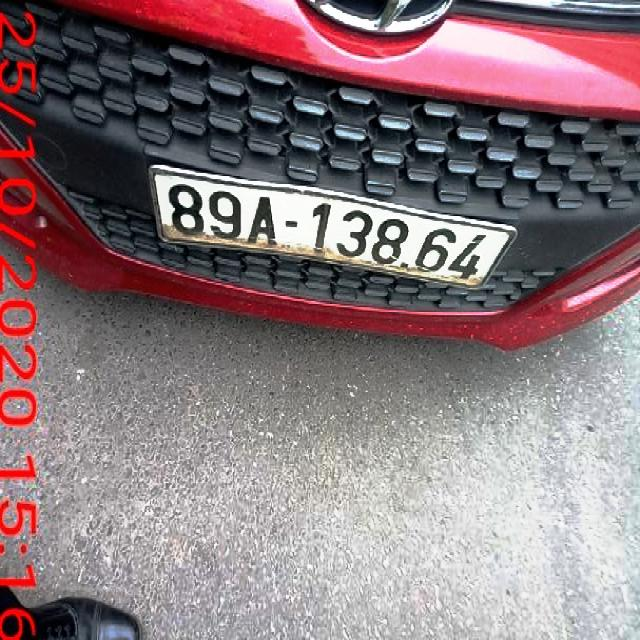license_plate: (153, 169, 516, 288)
